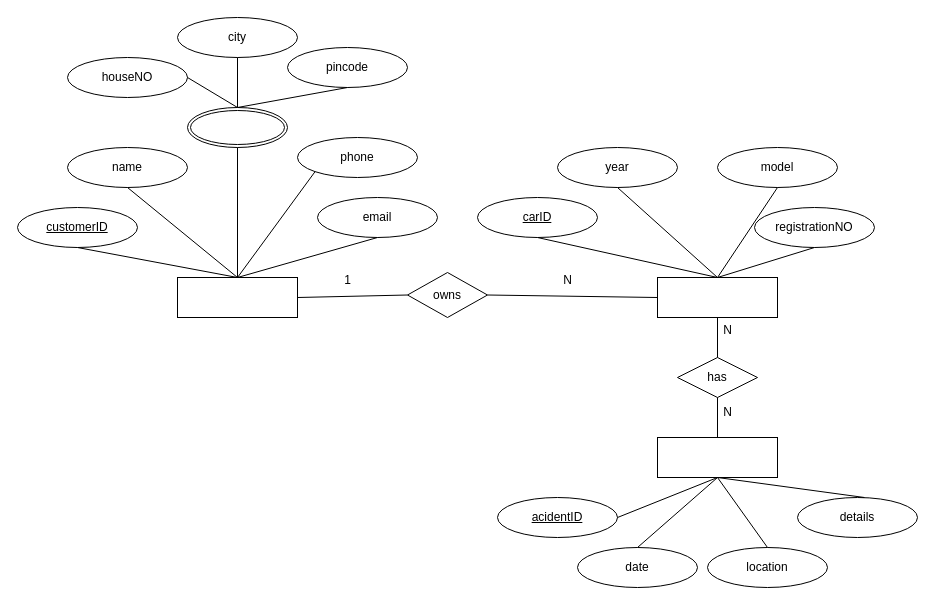
Some shapes in this 935 by 605 pixel diagram are drawn without their labels. The centre of each missing label's shape, as x and y in pixels:
"accident" goes at point (717, 457).
"address" goes at point (237, 127).
"car" goes at point (717, 297).
"customer" goes at point (237, 297).
